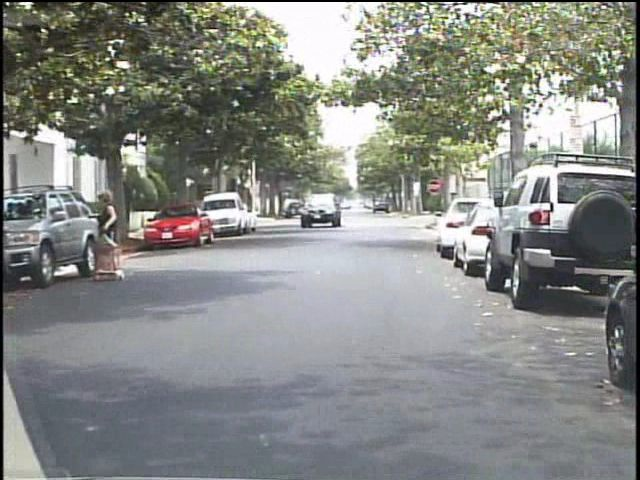person: (95, 186, 132, 281)
